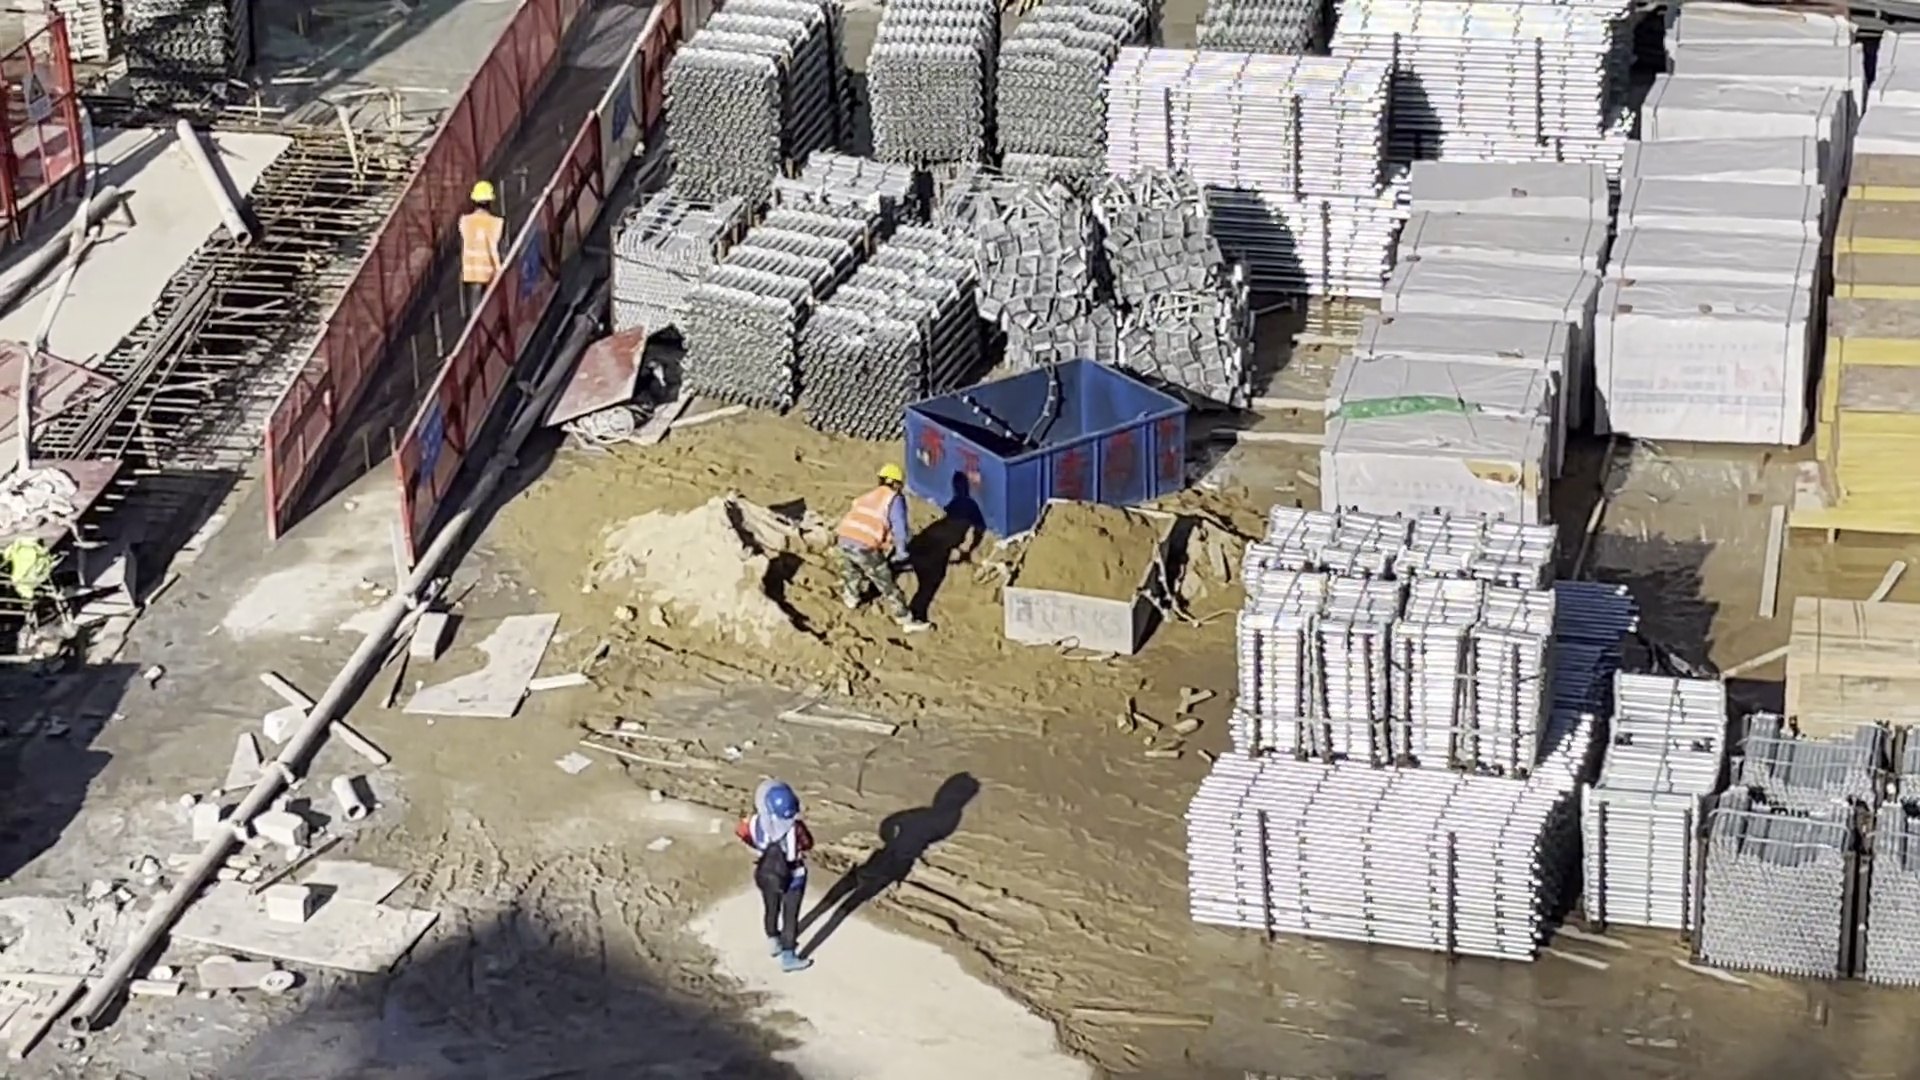board: (1827, 156, 1920, 539), (1788, 599, 1920, 731)
fence: (270, 6, 671, 519)
helmet: (768, 787, 799, 818), (467, 178, 493, 203), (879, 465, 906, 484)
hopper: (905, 358, 1185, 543), (1004, 497, 1173, 653)
person: (839, 465, 921, 639), (752, 784, 808, 970), (451, 185, 513, 315)
scaffold: (1231, 514, 1554, 772), (1188, 756, 1567, 956), (693, 208, 978, 423), (1701, 723, 1920, 981), (877, 1, 1154, 157), (1105, 46, 1392, 195), (1336, 4, 1616, 141), (663, 4, 844, 196), (1583, 674, 1713, 930), (1206, 183, 1389, 300), (125, 1, 248, 87), (1202, 1, 1333, 68), (23, 1, 111, 70)
slogan: (416, 403, 444, 479), (519, 235, 542, 295)
vest: (843, 488, 905, 549), (761, 824, 808, 887), (461, 214, 502, 285)
